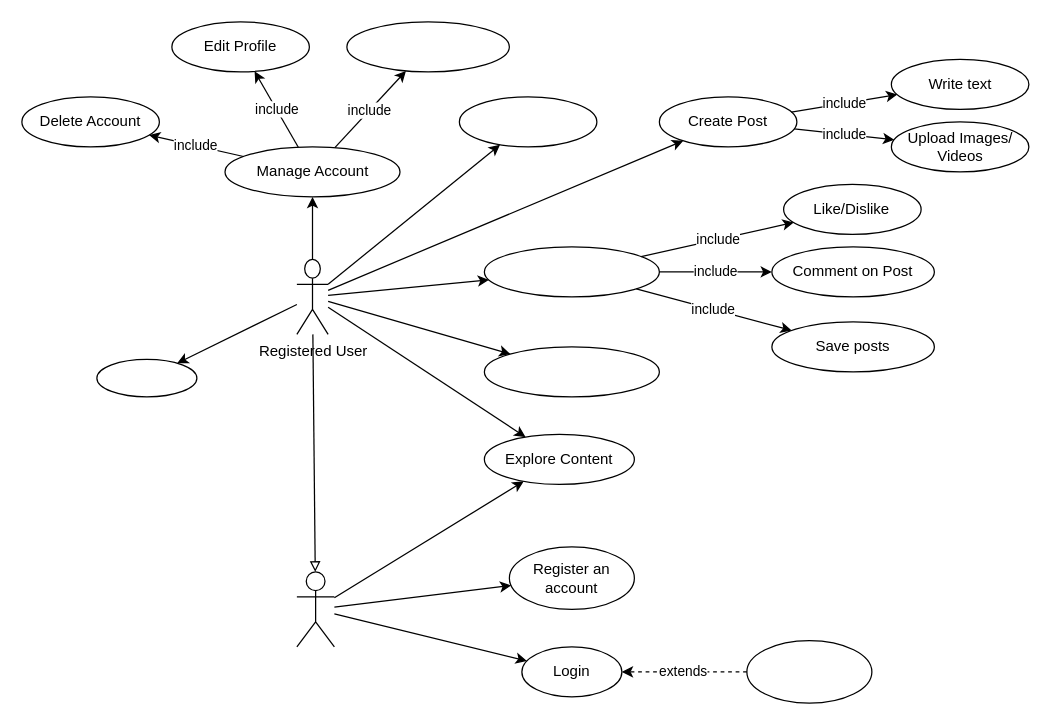
This 1051x725 diagram has some shape labels left out. The shapes that lost their labels are listed below. From the top down, each one's centre as x and y in pixels, then its label:
point (427, 46): Change Password
point (527, 121): Edit Post
point (571, 271): Interact with Posts
point (146, 377): Log out
point (571, 371): Report Content
point (315, 609): Guest User
point (809, 671): Password Recovery
